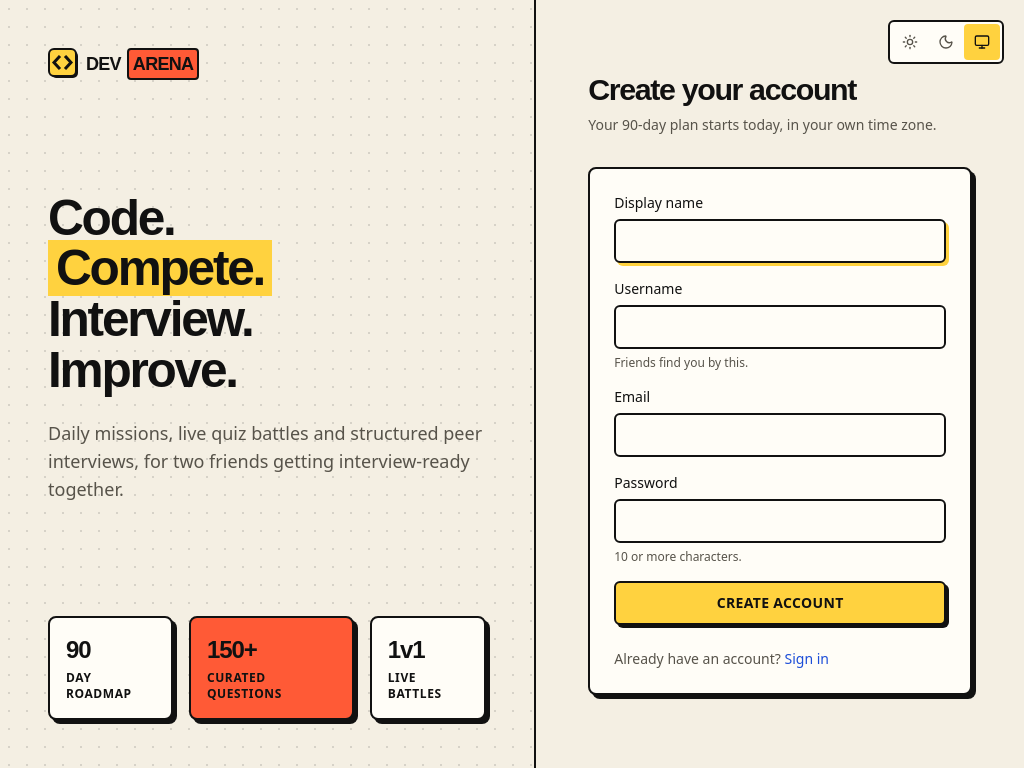
Scenario: Auth forms › enforces username and password rules on registration
The width and height of the screenshot is (1024, 768).
Type "bad name!" into the field labelled "Username" at (780, 327), box 614,305 -> 946,349
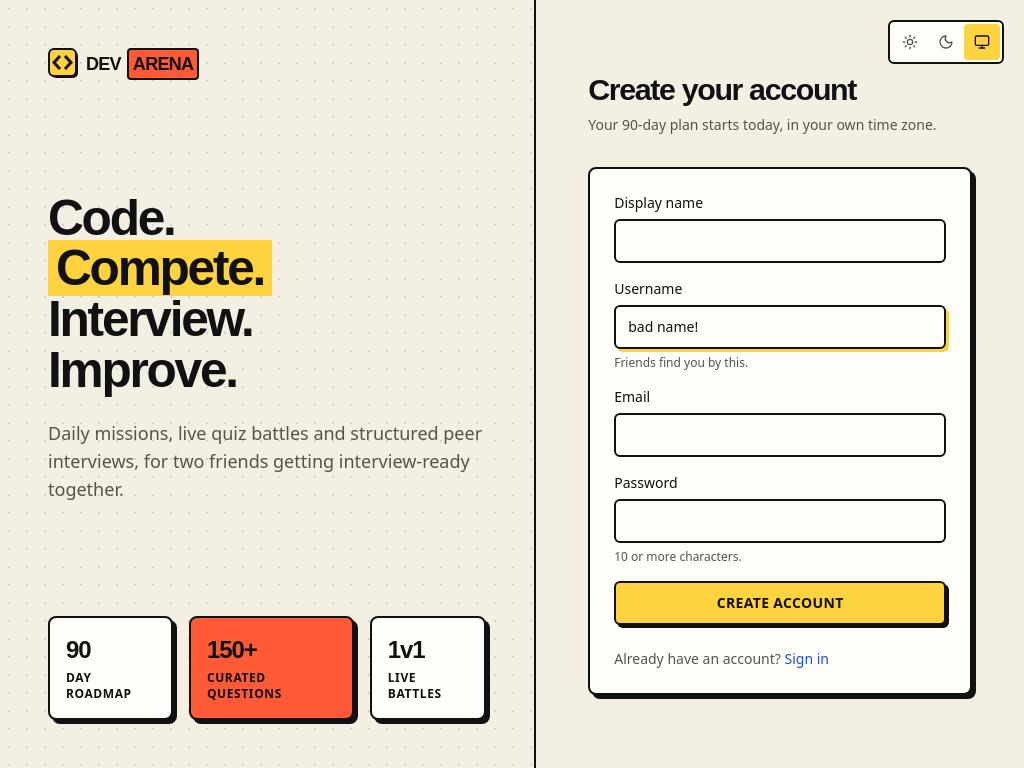
Type "short" into the password field labelled "Password" at (780, 521), box 614,499 -> 946,543
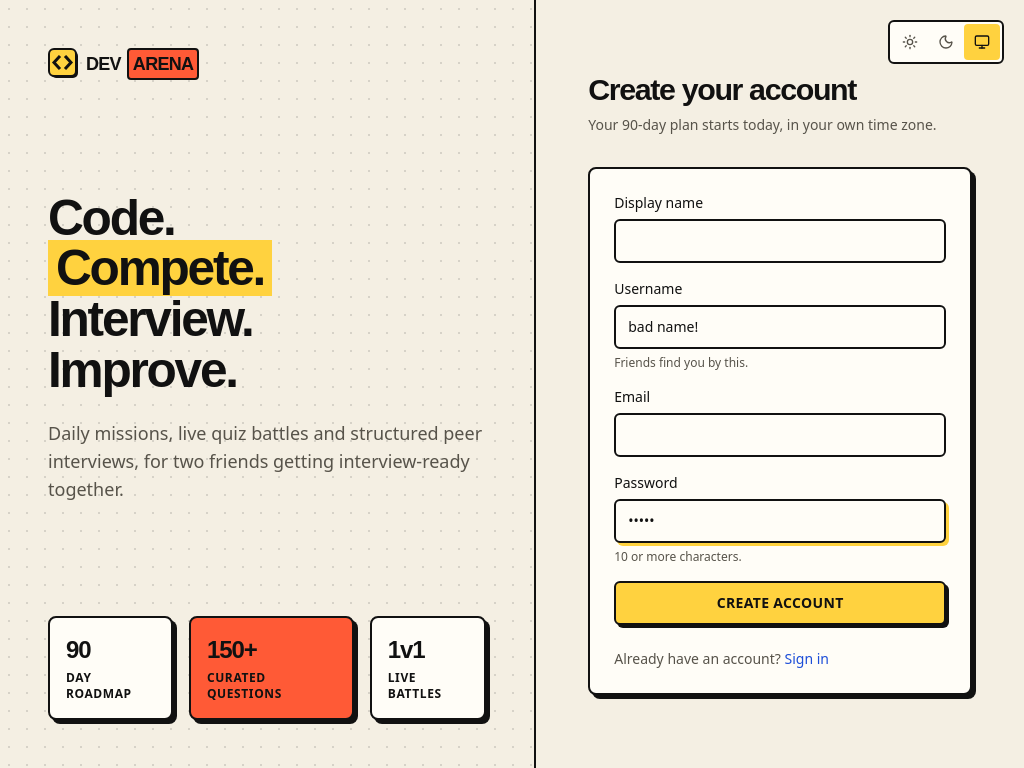
Click the button "Create account" at (780, 603), box 614,581 -> 946,625
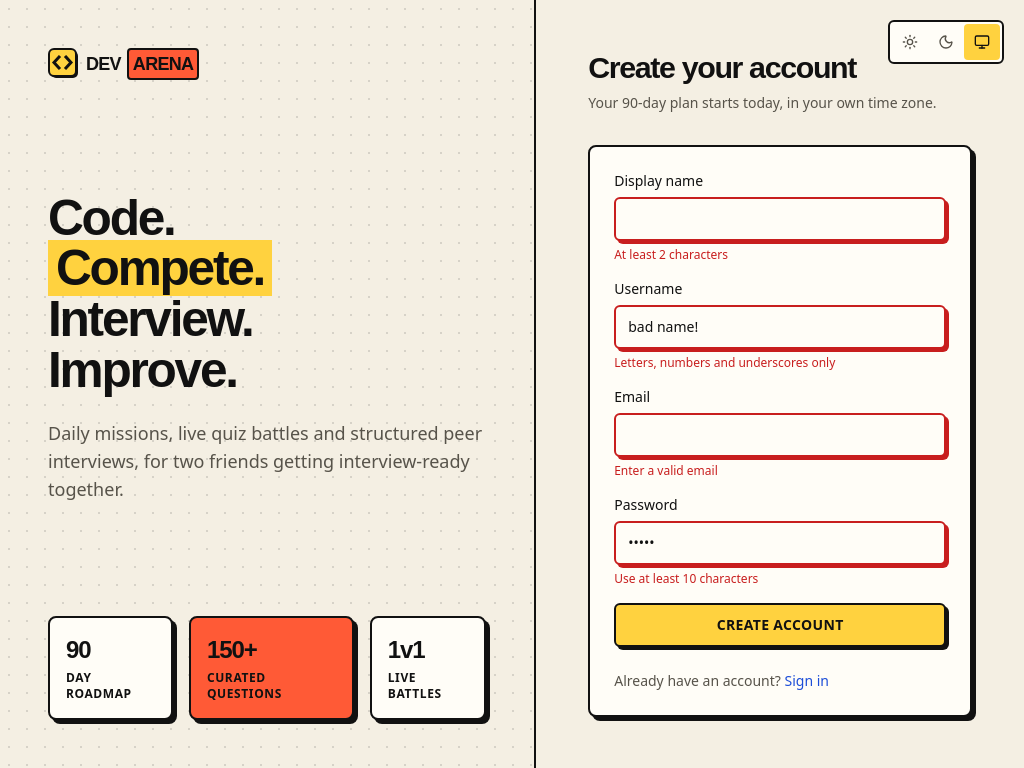
Expected: the text "Letters, numbers and underscores only" is shown, 614,354 -> 835,371
Expected: the text "Use at least 10 characters" is shown, 614,570 -> 758,587
